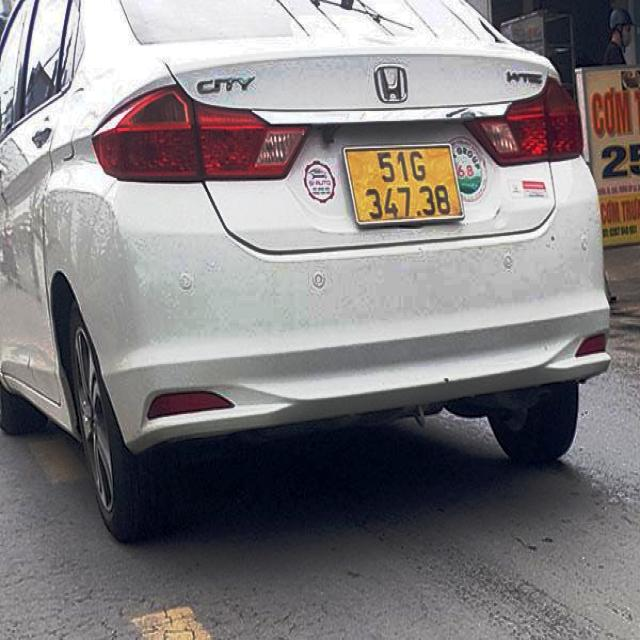license_plate: (346, 144, 464, 223)
